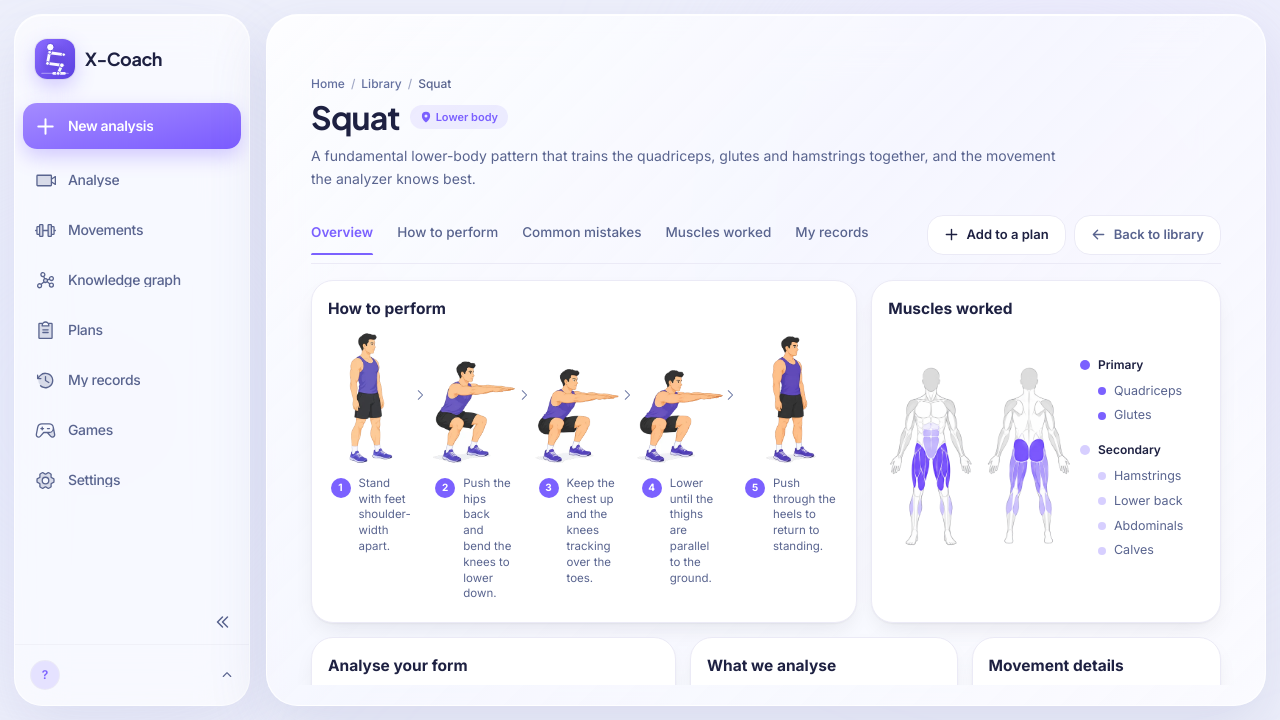
Test: MovementDetail — add to a plan › reports a failed add inside the menu, without closing it
The width and height of the screenshot is (1280, 720).
Click the button "Add to a plan" at (996, 234), box [926, 214, 1066, 254]
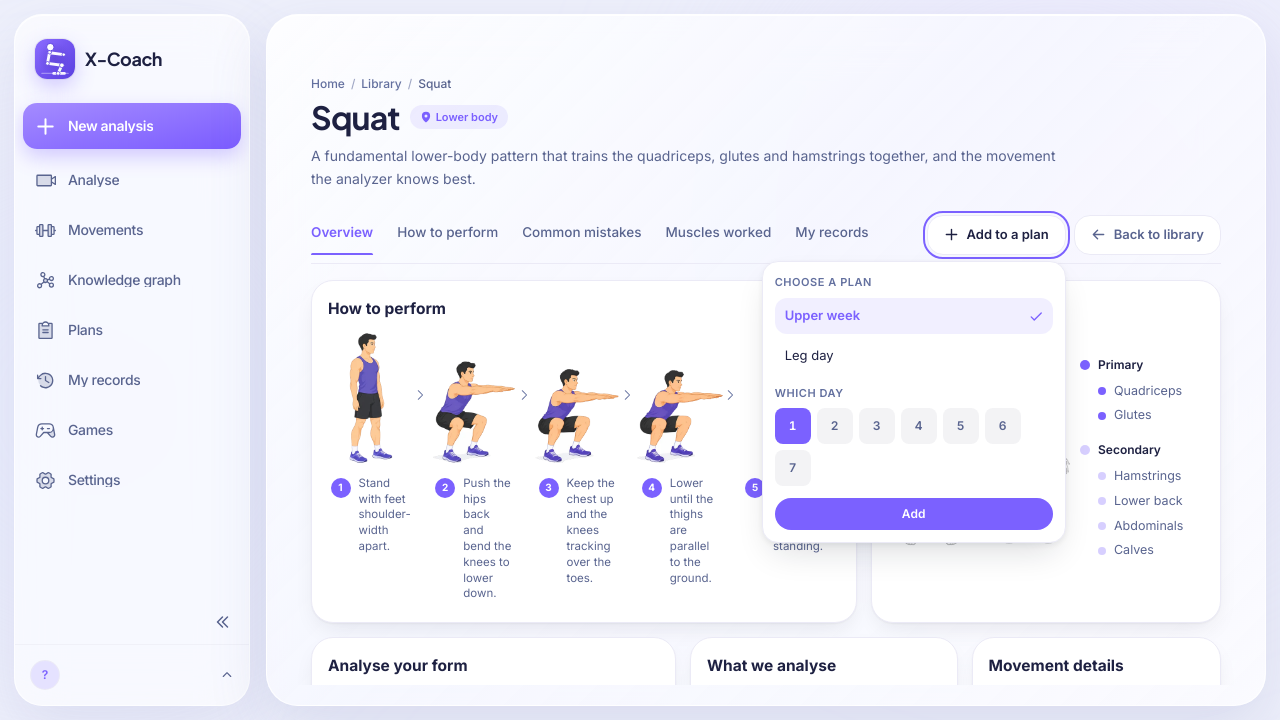
Click the button "Add" at (914, 514), box [775, 498, 1053, 530]
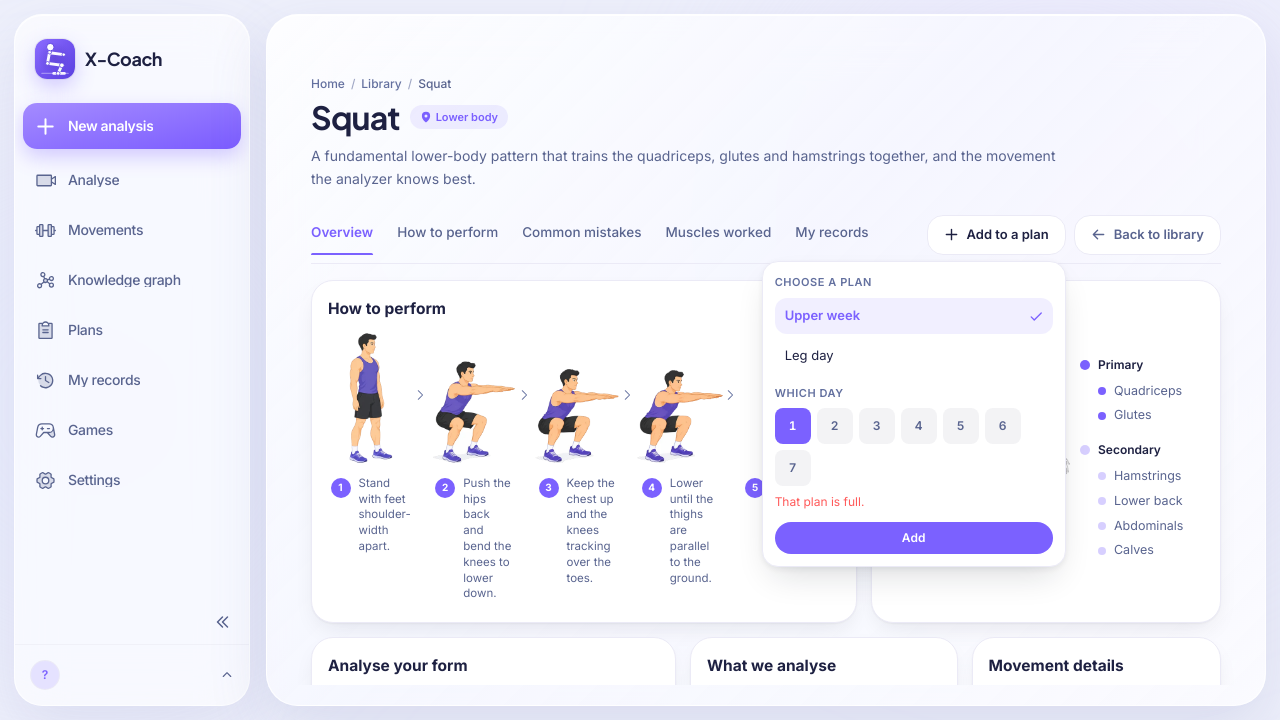
Now the menu is shown, box [762, 260, 1066, 566]
Now the text "That plan is full." is shown, box [775, 494, 864, 508]
